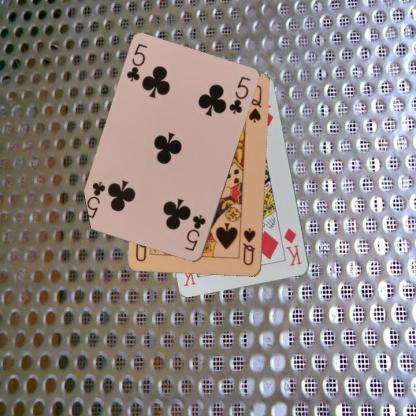5c: (181, 212, 207, 253), (124, 41, 149, 83)
Kd: (282, 226, 304, 267)
Qs: (240, 225, 257, 267)
